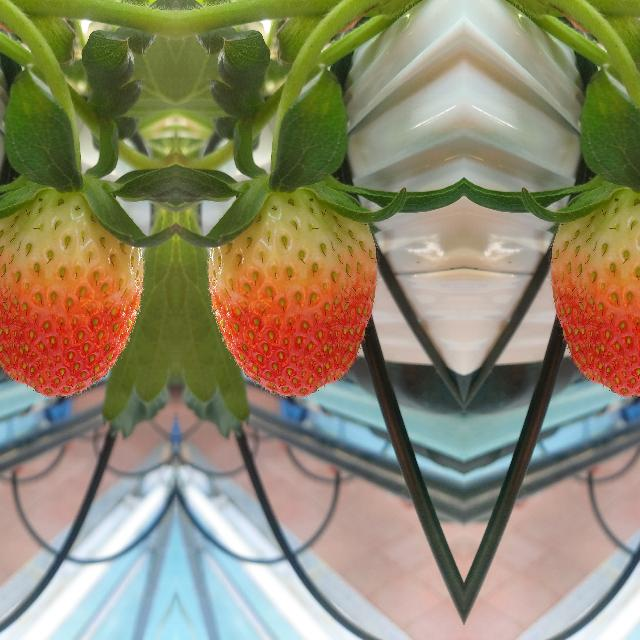Health_75: (205, 187, 379, 399), (0, 187, 145, 399), (547, 187, 640, 399)
